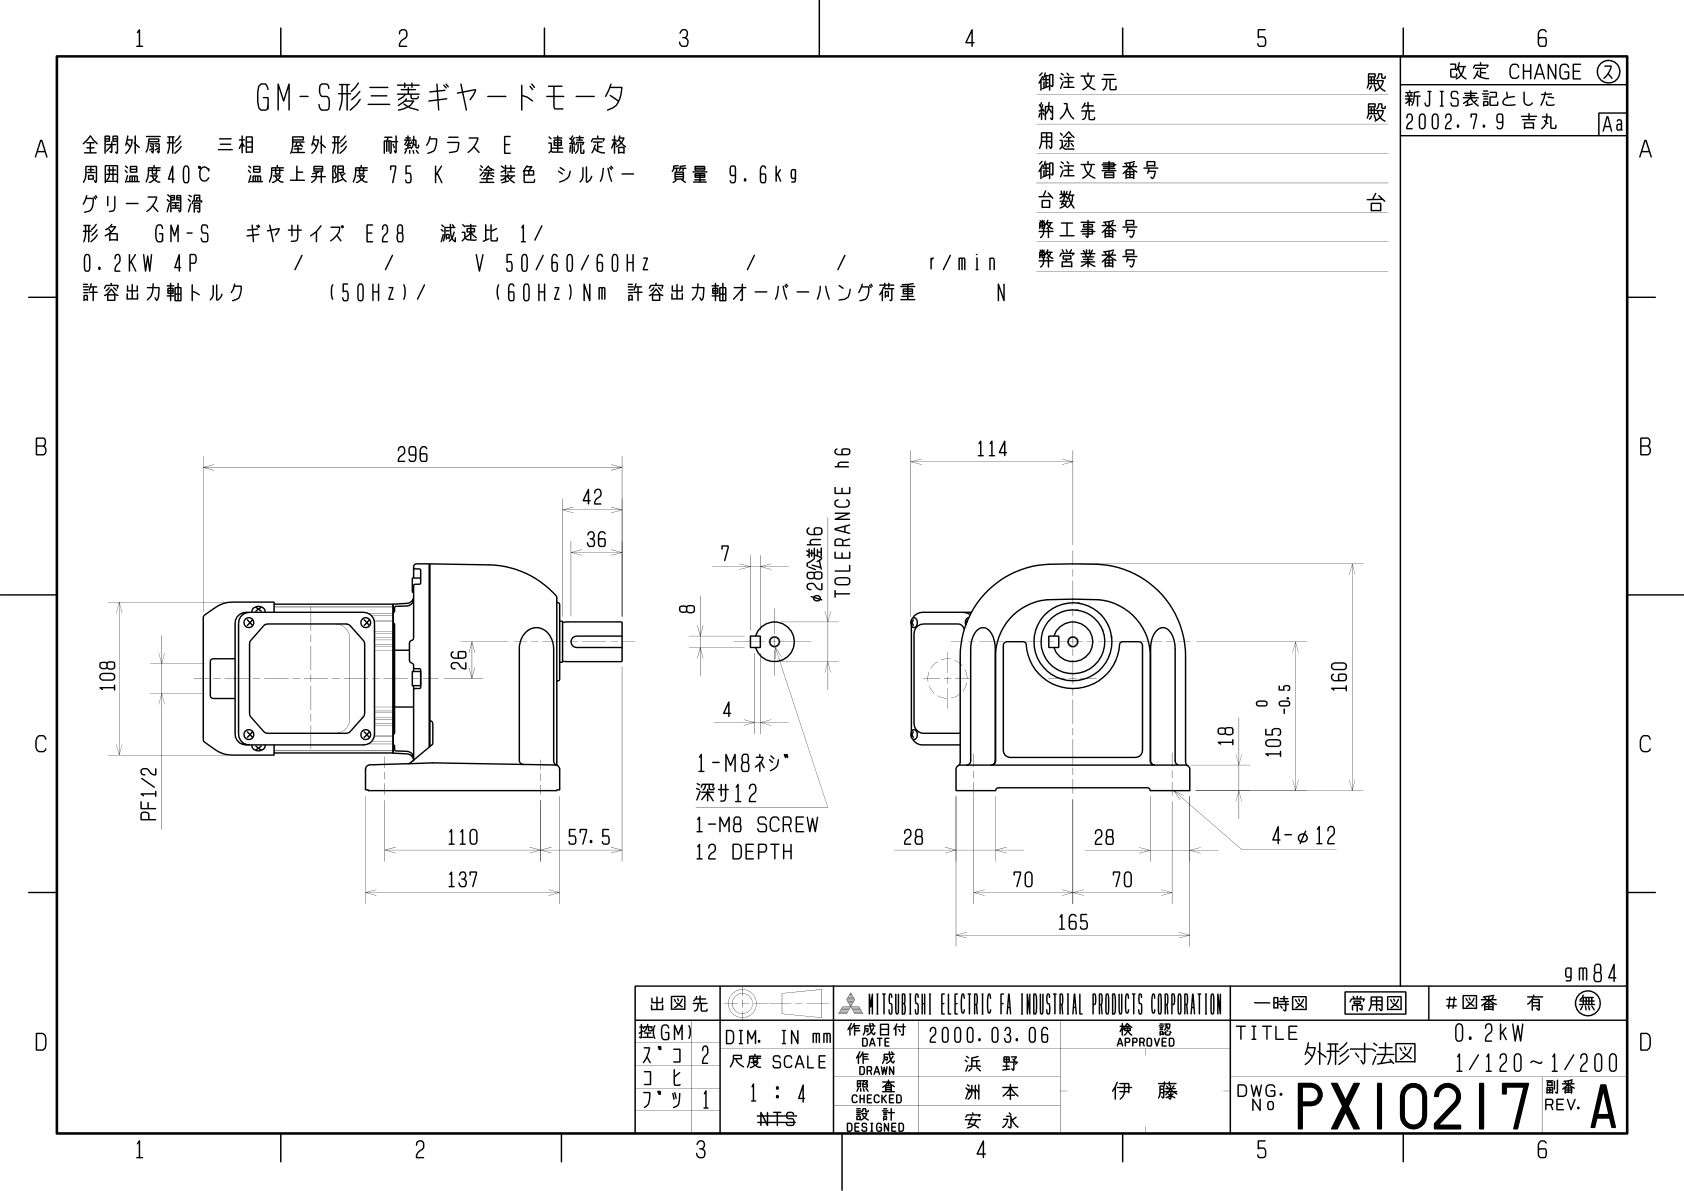GM_S_屋外＿三相_脚: (81, 414, 1381, 953)
